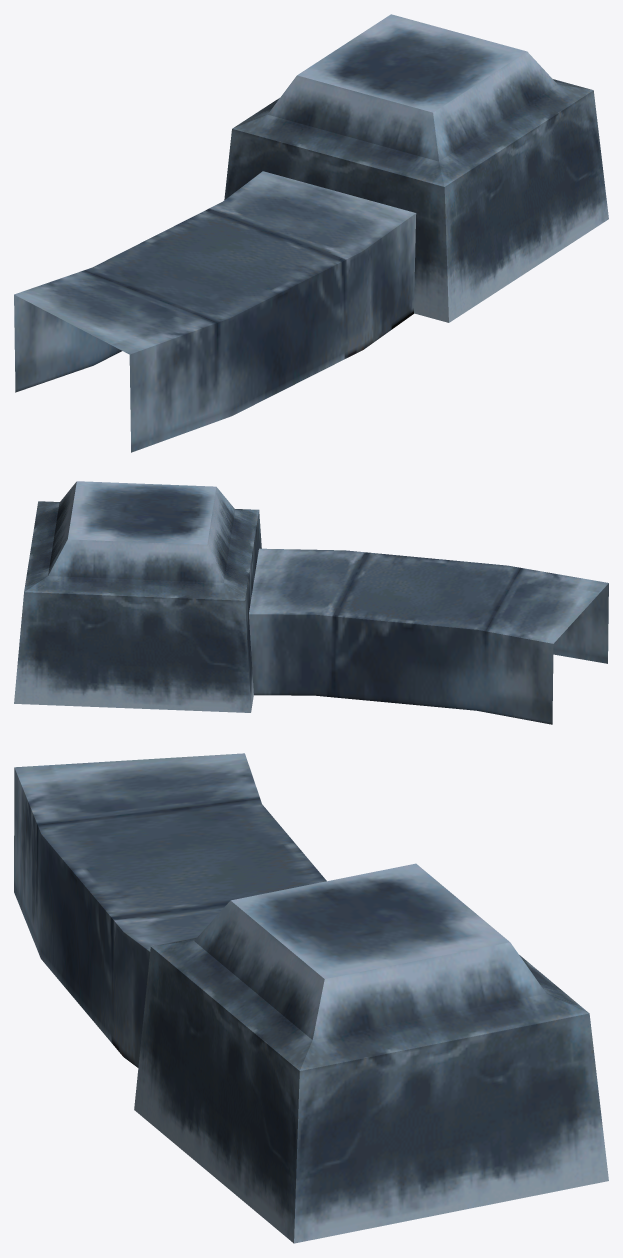
File: Ice_edge04.FBX
3 renders of one model, top to bottom at view 1: azimuth 30°, elevation 25°; view 2: azimuth 150°, elevation 25°; view 3: azimuth 270°, elevation 25°, orthographic. The views are drawn at different scales.
Parts seen in each view (by area): view 1: Object15875; view 2: Object15875; view 3: Object15875.
Boxes of the visible parts, <box> form: Object15875: <box>14,14,608,452</box>; Object15875: <box>14,481,608,724</box>; Object15875: <box>14,753,608,1243</box>.
Size of the model in its own units: 490 by 141 by 326.
